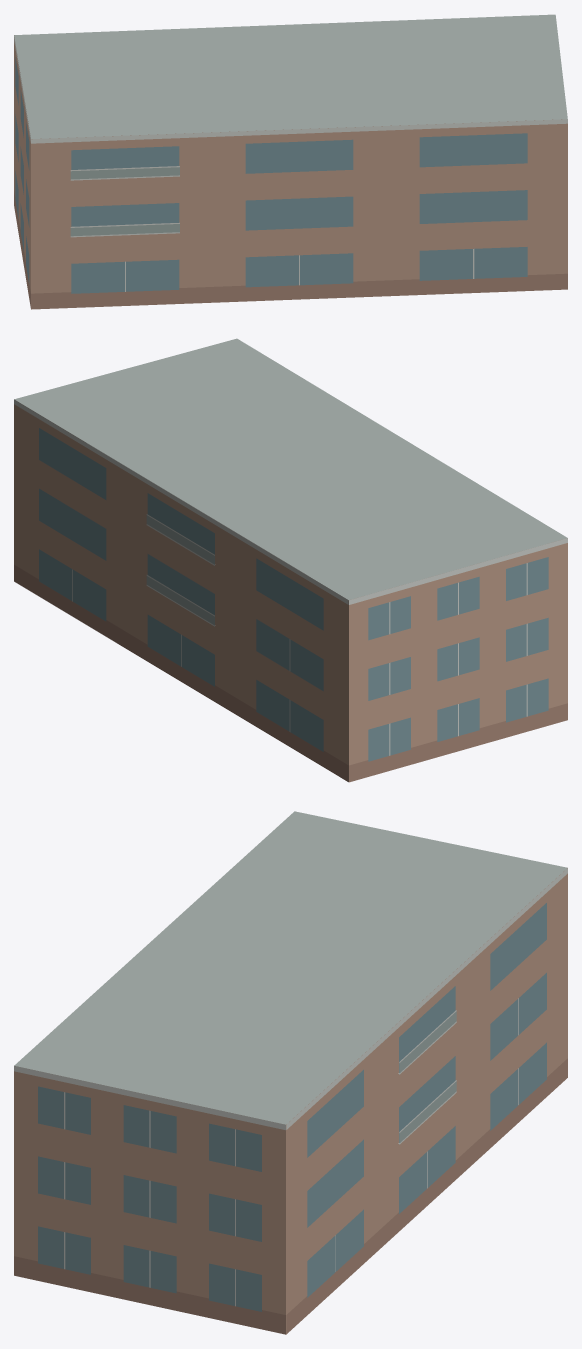
File: survey-upis-32998818.glb
3 renders of one model, top to bottom at view 1: azimuth 30°, elevation 25°; view 2: azimuth 150°, elevation 25°; view 3: azimuth 270°, elevation 25°, orthographic. The views are drawn at different scales.
Visible parts, largest first — view 1: survey-upis-32998818.tmp; view 2: survey-upis-32998818.tmp; view 3: survey-upis-32998818.tmp.
Boxes of the visible parts, x1,y1,x2,y2 form: survey-upis-32998818.tmp: (14,14,567,309); survey-upis-32998818.tmp: (14,338,567,782); survey-upis-32998818.tmp: (14,811,567,1334).
Bounding box in the file's own units: 29.31 × 9.15 × 21.89.
